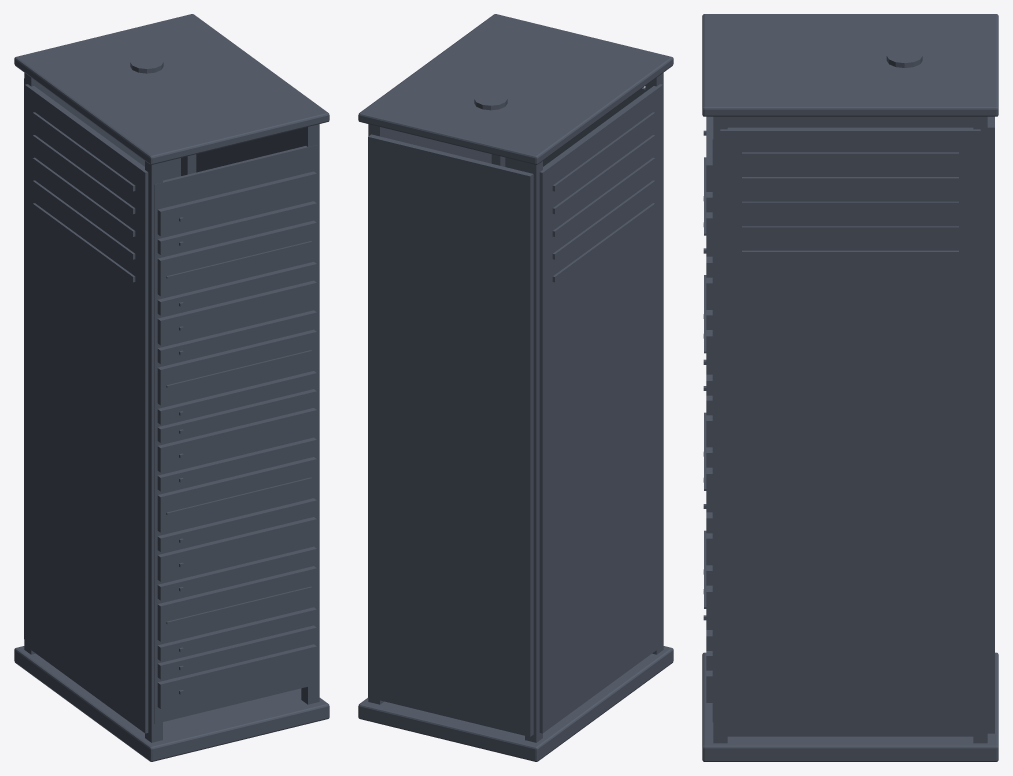
Rendered from comm-rack.glb.
The picture shows the model from 3 angles, left to right: view 1: azimuth 30°, elevation 25°; view 2: azimuth 150°, elevation 25°; view 3: azimuth 270°, elevation 25°; orthographic projection. The views are drawn at different scales.
Visible parts, largest first — view 1: commrack_merged; view 2: commrack_merged; view 3: commrack_merged.
Part boxes in pixels (bbox=[...]): commrack_merged: bbox=[14, 14, 329, 761]; commrack_merged: bbox=[358, 14, 673, 761]; commrack_merged: bbox=[702, 14, 998, 761].
Bounding box in the file's own units: 0.62 × 2.01 × 0.82.
